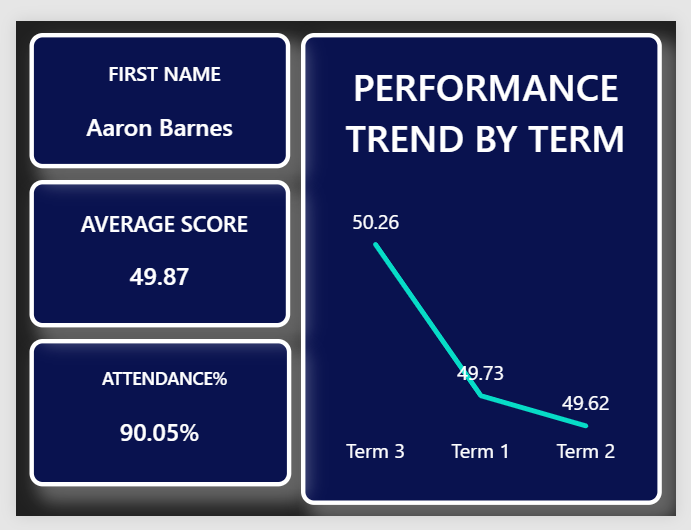

The dashboard page shown, as its layout file describes it:
{"tool":"powerbi","page":{"name":"STUDENT TOOLTIP","canvas":[400,300],"ordinal":2},"visuals":[{"type":"lineChart","title":"PERFORMANCE TREND BY TERM","fields":{"Category":["Scores.Term"],"Y":["MEASURE.Average Score per Subject"]},"box":[172.3,6.9,218.5,286.2],"z":0},{"type":"card","title":" ATTENDANCE%","fields":{"Values":["MEASURE.Attendance %"]},"box":[8.5,193.1,158.5,89.2],"z":1000},{"type":"card","title":"AVERAGE SCORE","fields":{"Values":["MEASURE.Average Score per Subject"]},"box":[8.2,96.4,158.2,89.1],"z":2000},{"type":"card","title":"FIRST NAME ","fields":{"Values":["Min(Students.Name)"]},"box":[8.2,7.3,158.2,81.8],"z":3000}]}

Visuals, with their boxes in screenshot pixels (x1, y1, x2, y2), scaled from the page's 400x300 canvas onto the 691x530 screenshot:
"PERFORMANCE TREND BY TERM" lineChart: 298,12,675,518
" ATTENDANCE%" card: 15,341,288,499
"AVERAGE SCORE" card: 14,170,287,328
"FIRST NAME " card: 14,13,287,157
